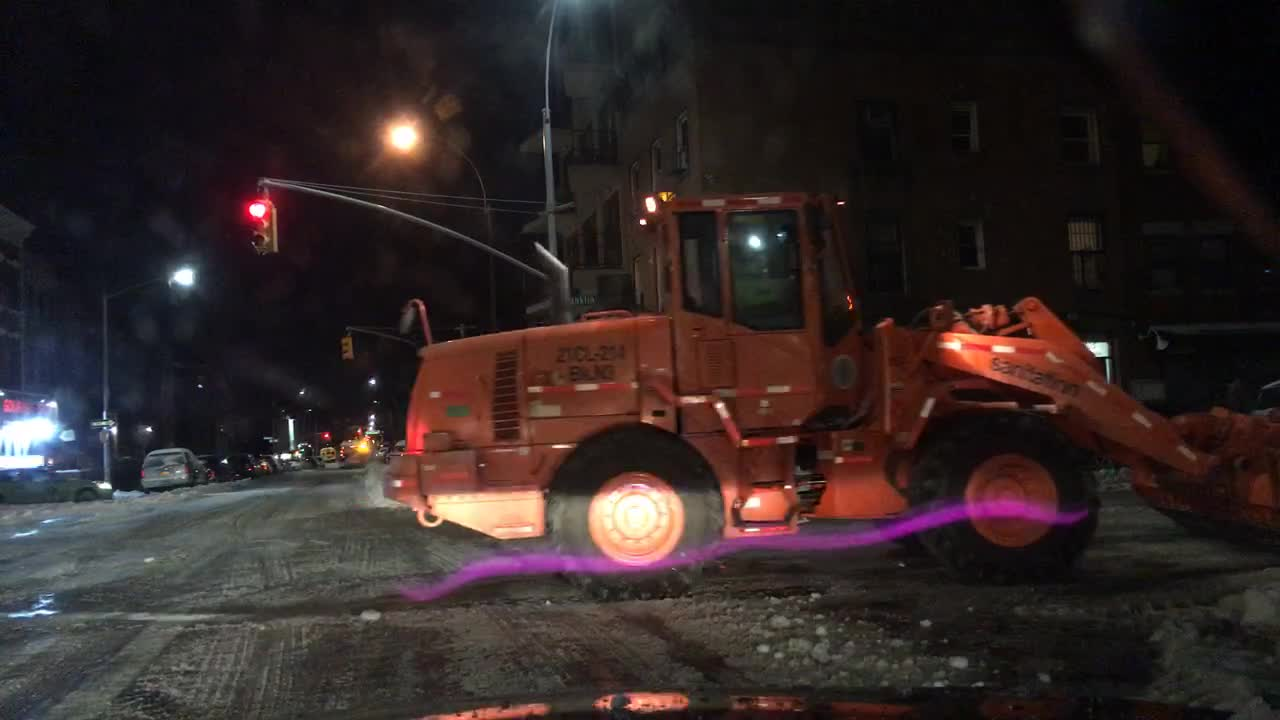car: (380, 193, 1279, 602), (0, 464, 112, 502), (138, 446, 210, 493), (198, 454, 237, 481), (222, 452, 256, 479), (337, 442, 370, 467), (249, 455, 280, 478), (300, 456, 327, 469), (280, 455, 301, 470), (391, 437, 407, 455), (318, 447, 336, 460), (375, 445, 391, 455)
traffic light: (244, 198, 277, 253), (340, 336, 353, 360), (318, 429, 333, 440)
traffic sign: (528, 239, 568, 272), (527, 298, 560, 314), (566, 295, 599, 307), (88, 419, 115, 427)
